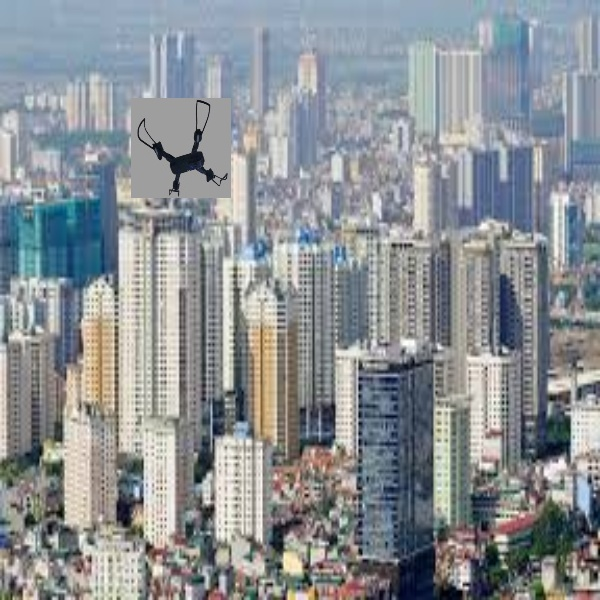drone: (131, 98, 231, 194)
